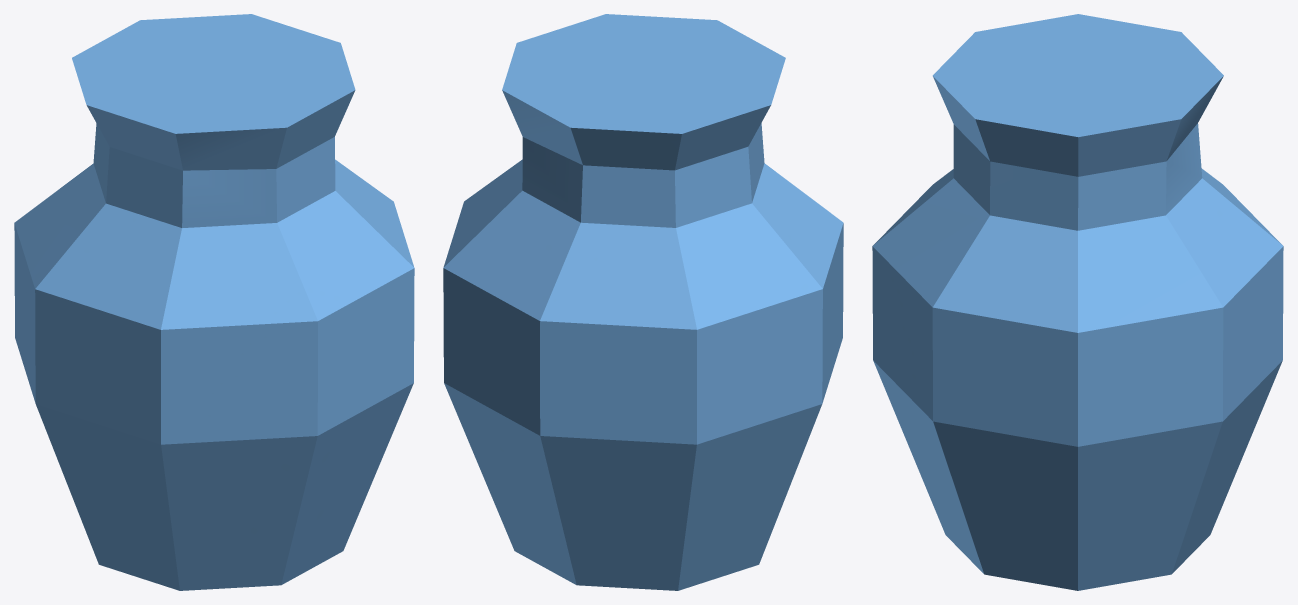
File: jfdx_gz1.FBX
3 views of the same model, side by side, from view 1: azimuth 30°, elevation 25°; view 2: azimuth 150°, elevation 25°; view 3: azimuth 270°, elevation 25° (orthographic).
Parts seen in each view (by area): view 1: jfdx_gz1; view 2: jfdx_gz1; view 3: jfdx_gz1.
Part boxes in pixels (x1,y1,x2,y2): jfdx_gz1: (14, 14, 414, 590); jfdx_gz1: (443, 14, 843, 590); jfdx_gz1: (872, 14, 1283, 590).
Bounding box in the file's own units: 0.8384 × 1.03 × 0.8384.
